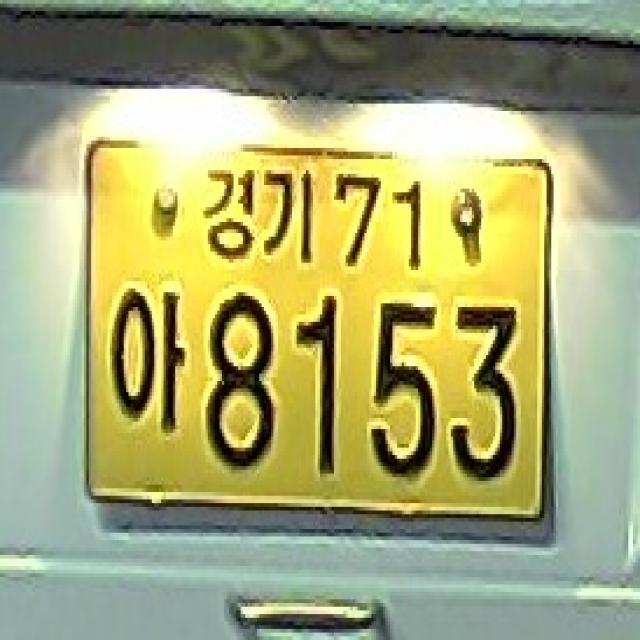plat: (85, 137, 554, 522)
